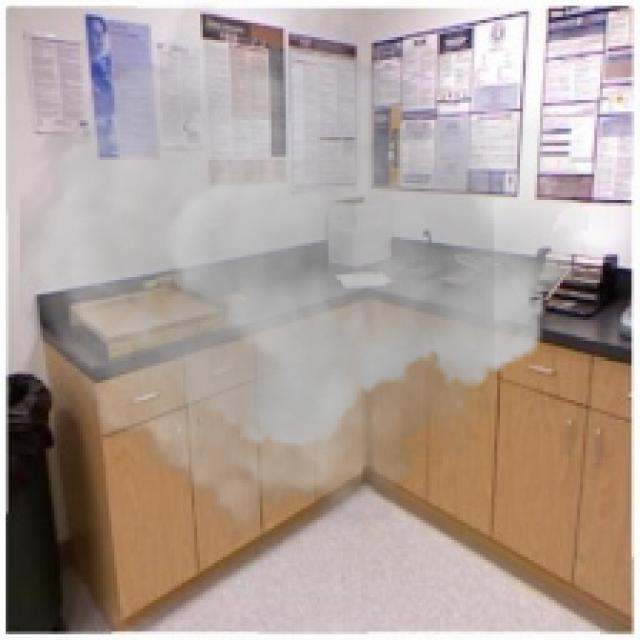smoke: (20, 3, 589, 546)
